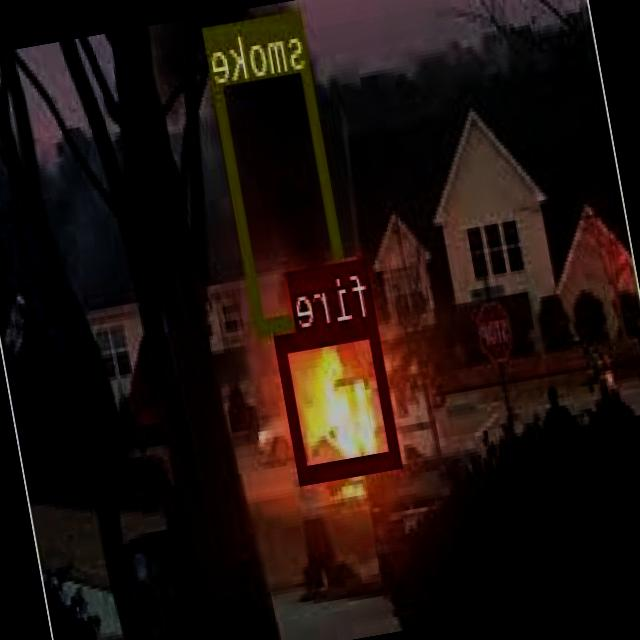fire: (276, 316, 402, 479)
smoke: (204, 8, 355, 334)
